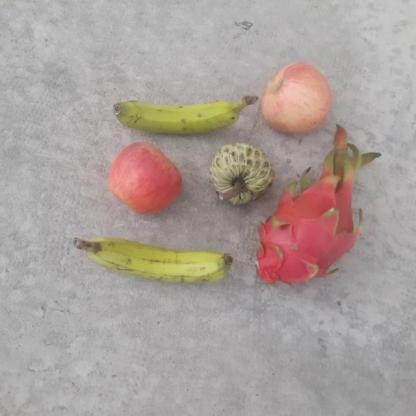annona: (208, 140, 279, 208)
apple: (257, 60, 335, 137), (106, 141, 180, 217)
banana: (86, 228, 235, 289), (112, 85, 244, 136)
pitaya: (246, 155, 331, 246)
